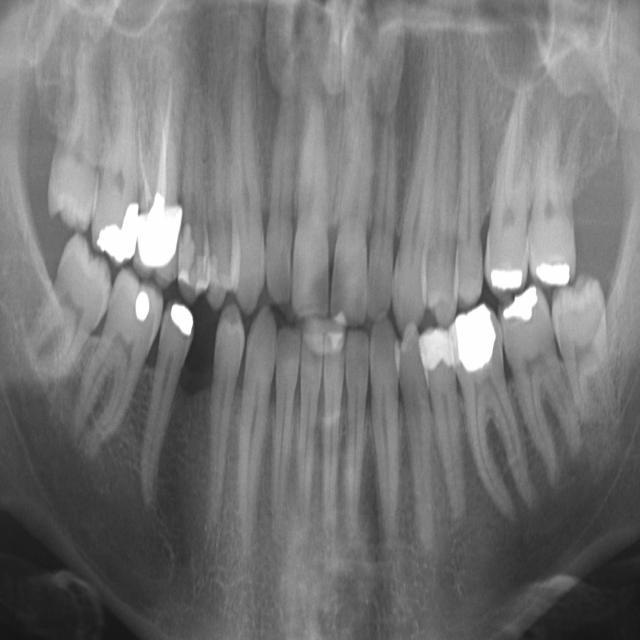dolgu: (96, 202, 141, 261), (506, 286, 545, 326), (529, 253, 576, 286), (421, 328, 453, 376), (488, 255, 522, 295), (167, 305, 198, 344), (180, 232, 196, 288), (326, 321, 348, 355), (129, 286, 148, 324)
kanal-tedavisi: (135, 73, 179, 223)
kaplama: (453, 304, 497, 372), (140, 203, 180, 261)
